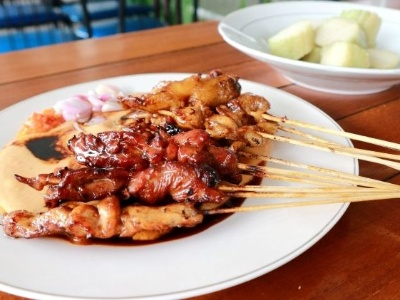sate: (20, 83, 400, 240)
